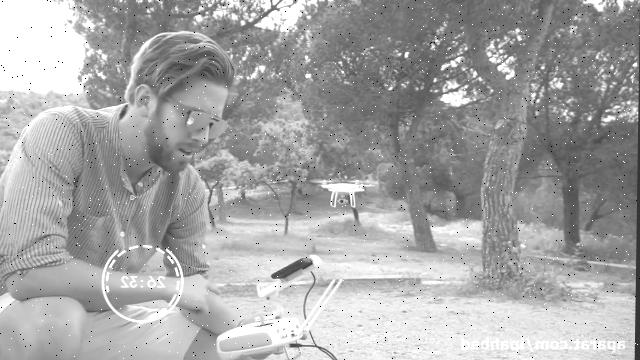drone: (308, 177, 376, 209)
